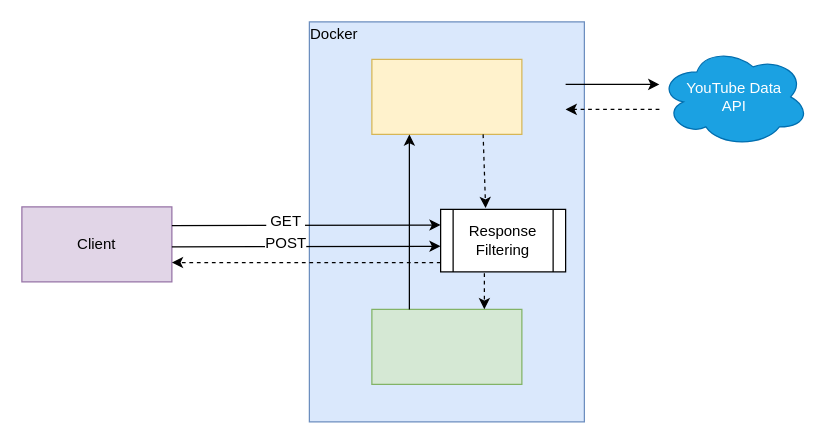
The diagram is 831 pixels wide and 444 high, and some of its shapes have lost their labels. Here are the shapes that lost their labels. From the top down, the box of each, then its label:
(371, 58, 522, 134): react-youtube library
(371, 308, 522, 384): Node Server
